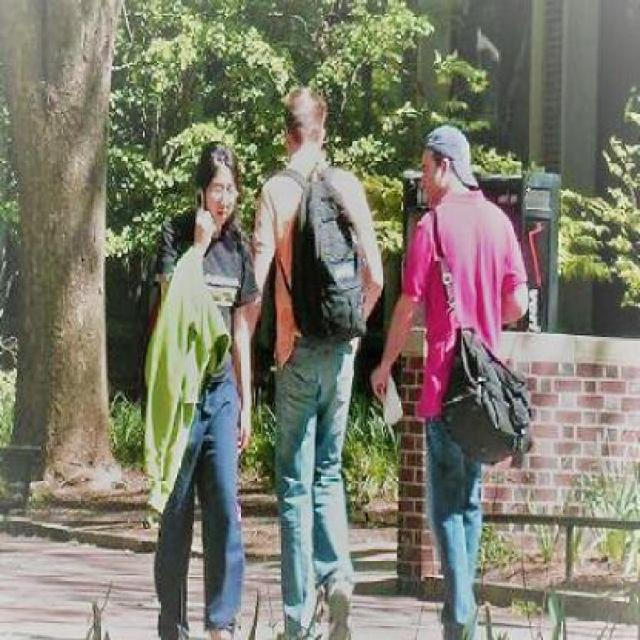Person: (372, 124, 531, 638), (253, 83, 384, 639), (147, 138, 256, 639)
